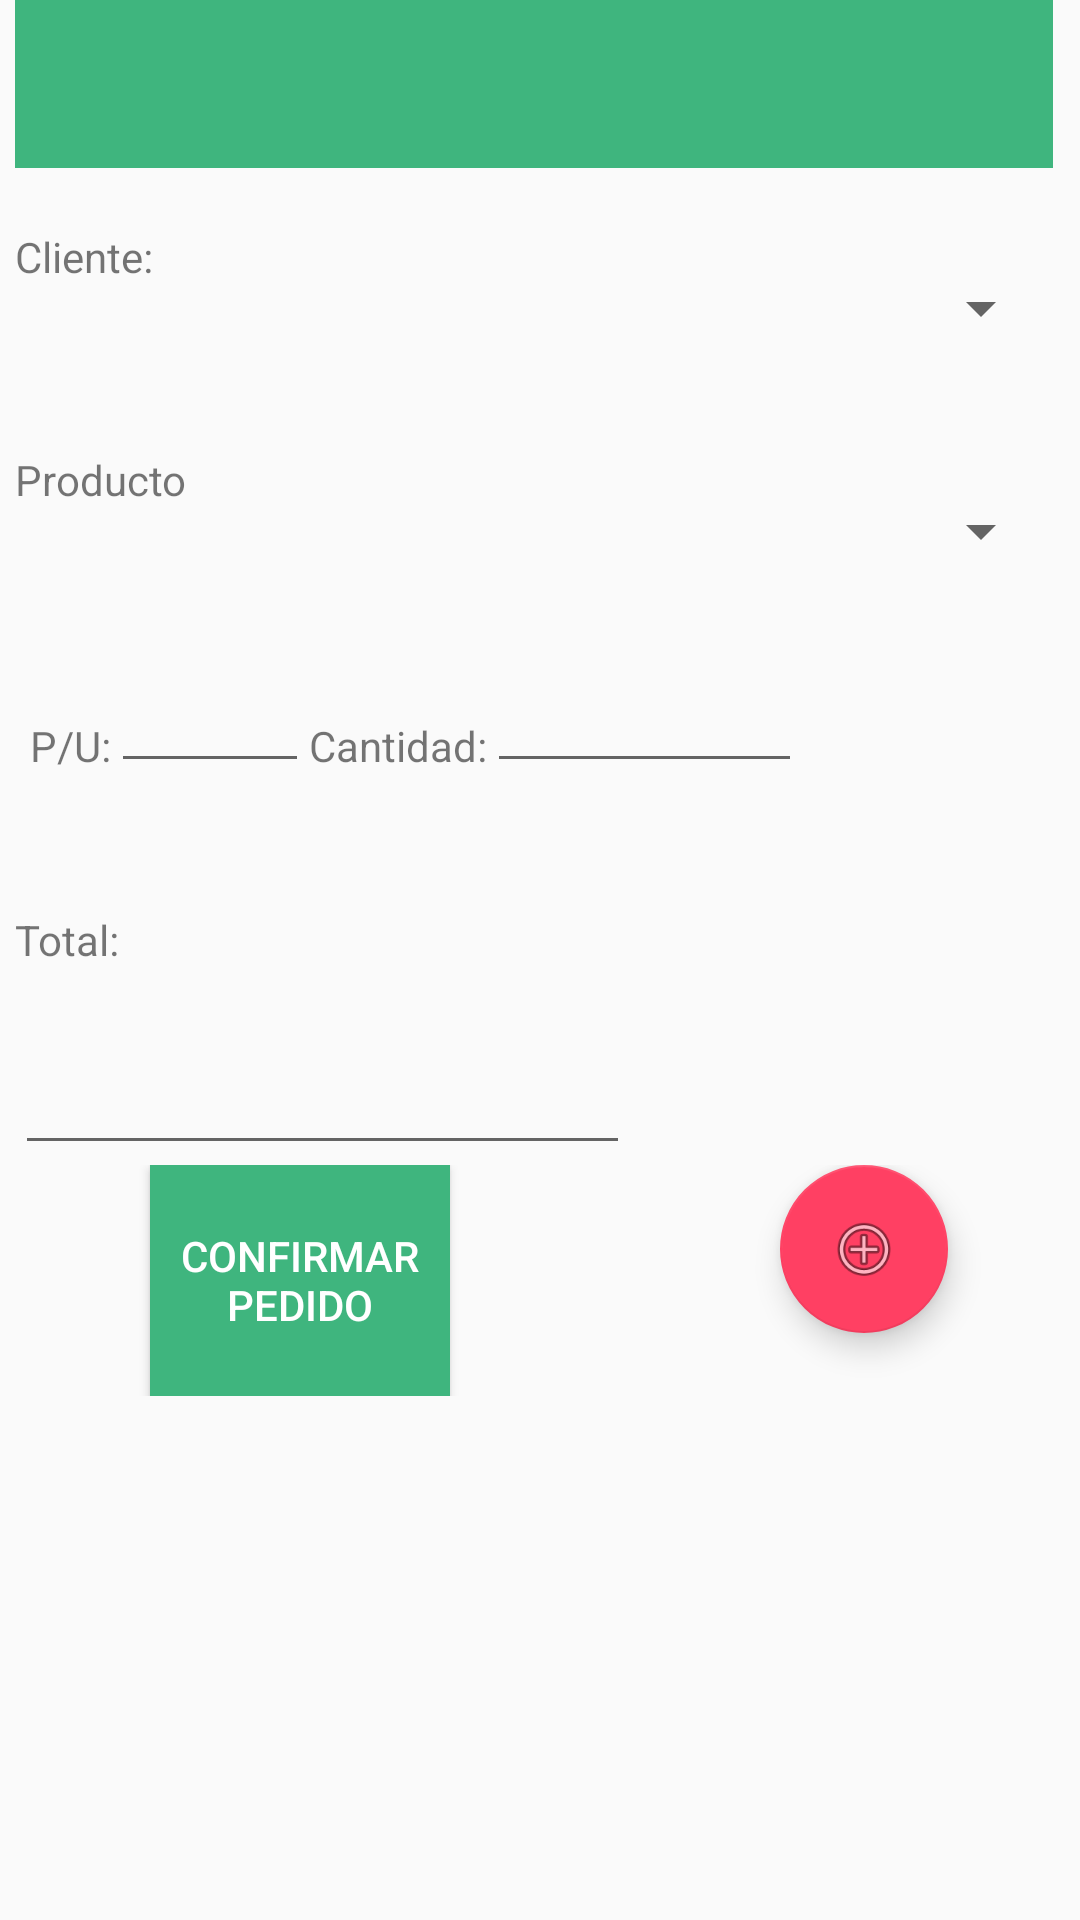

Screen size 1080 × 1920. Icon name, then its center in pixels as (x=x, y=y):
add: (x=864, y=1249)
